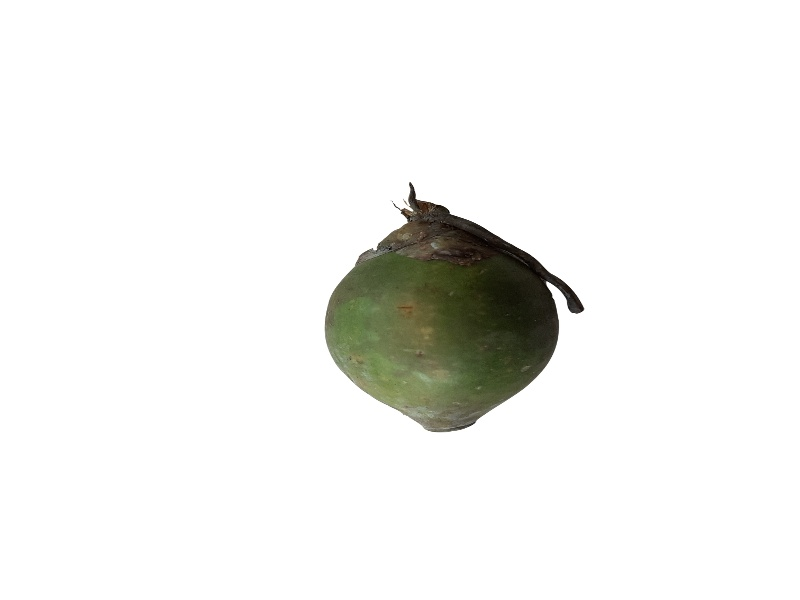arecanut: (316, 175, 585, 440)
